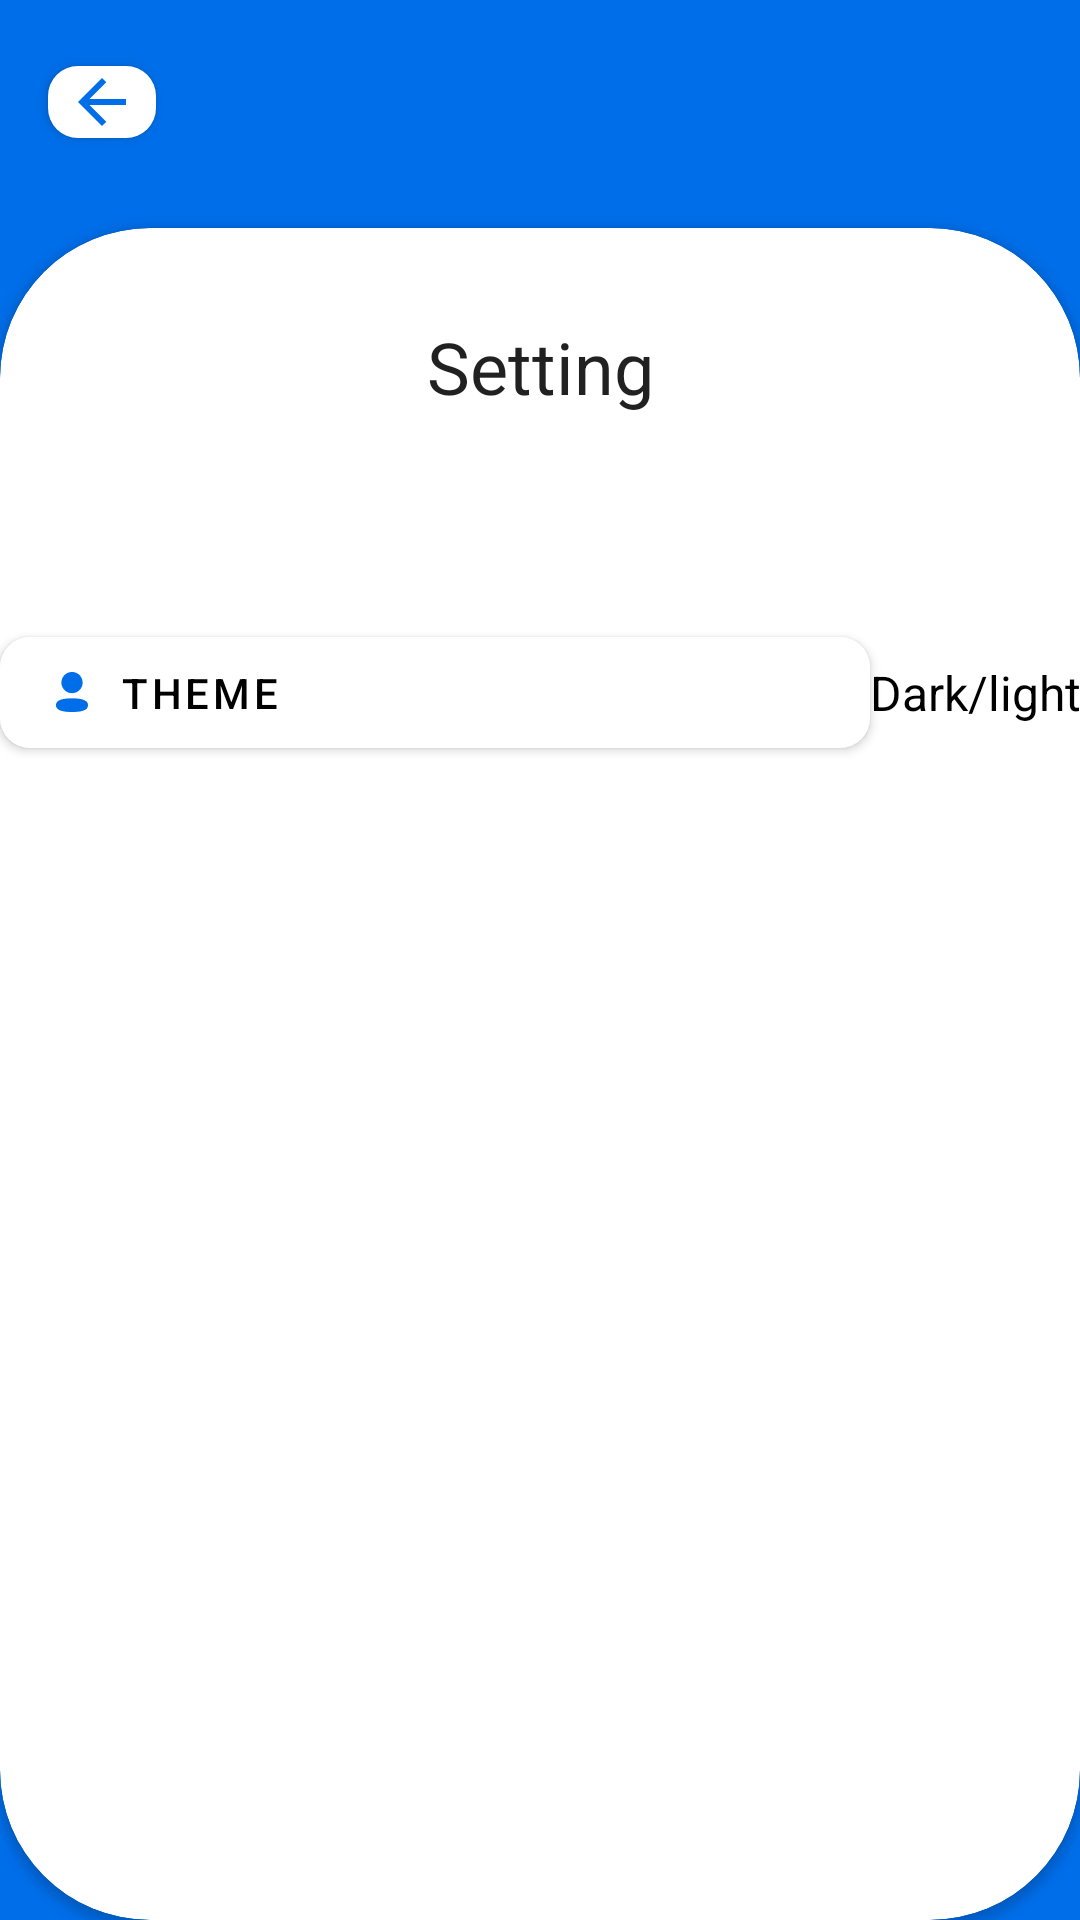

Point at icon controls on the screen. Image size 1080 × 1920, points as [x,y].
arrow back: [102,102]
